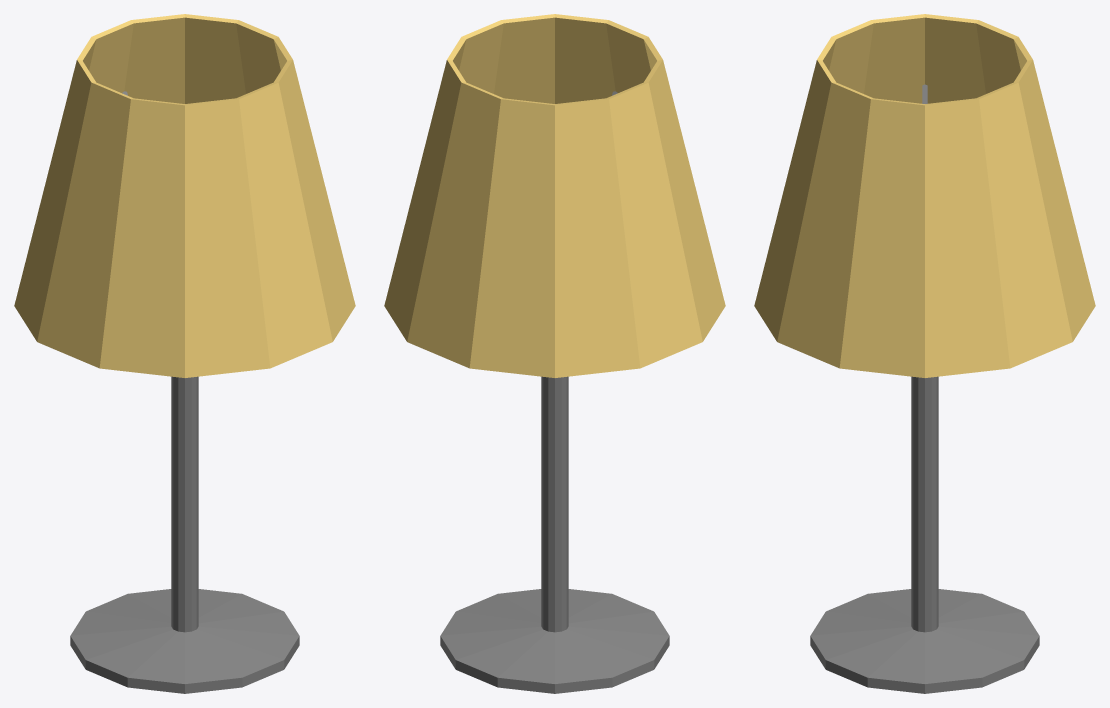
Rendered from Lamp.glb.
3 views of the same model, side by side, from view 1: azimuth 30°, elevation 25°; view 2: azimuth 150°, elevation 25°; view 3: azimuth 270°, elevation 25° (orthographic).
Parts seen in each view (by area): view 1: Lamp; view 2: Lamp; view 3: Lamp.
Boxes of the visible parts, x1,y1,x2,y2 form: Lamp: [14, 14, 355, 693]; Lamp: [384, 14, 725, 693]; Lamp: [754, 14, 1095, 693].
Size of the model in its own units: 93.47 by 177 by 93.47.
Materials: 1 (1 with a texture image).
